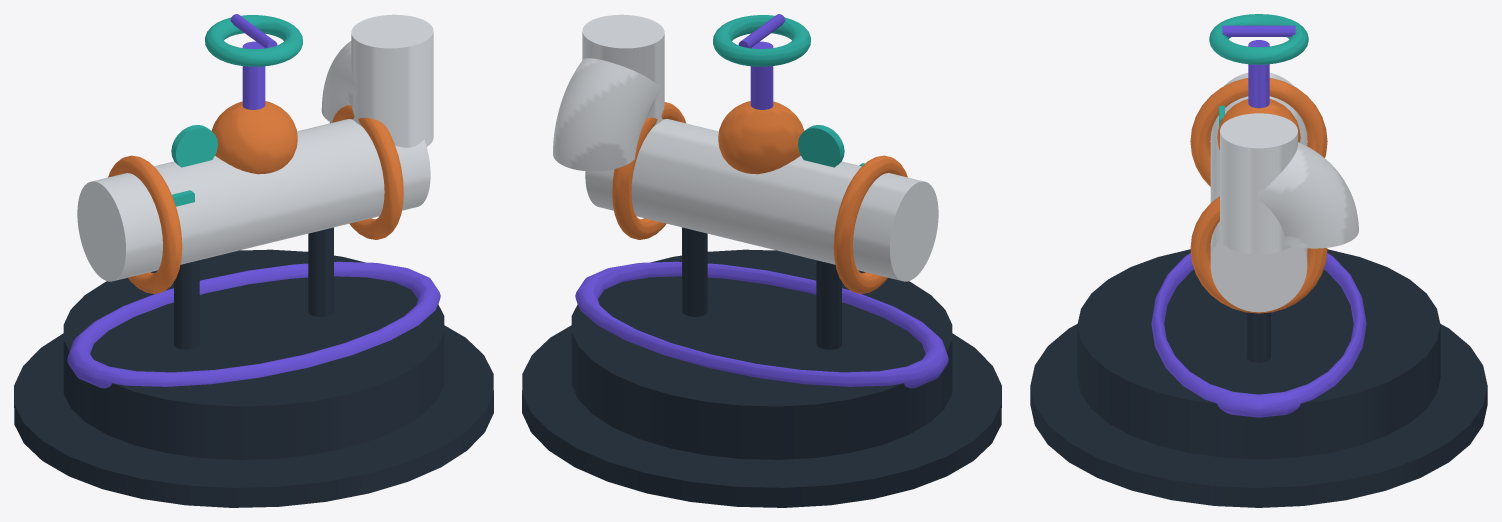
Rendered from 0579_伟大的发明图鉴_活动电影放映机.glb.
3 renders of one model, left to right at view 1: azimuth 30°, elevation 25°; view 2: azimuth 150°, elevation 25°; view 3: azimuth 270°, elevation 25°, orthographic.
Visible parts, largest first — view 1: card_0579; view 2: card_0579; view 3: card_0579.
Boxes of the visible parts, x1,y1,x2,y2 form: card_0579: (14, 14, 493, 507); card_0579: (522, 14, 1001, 507); card_0579: (1030, 14, 1487, 507).
Size of the model in its own units: 1.16 by 1 by 1.09.
